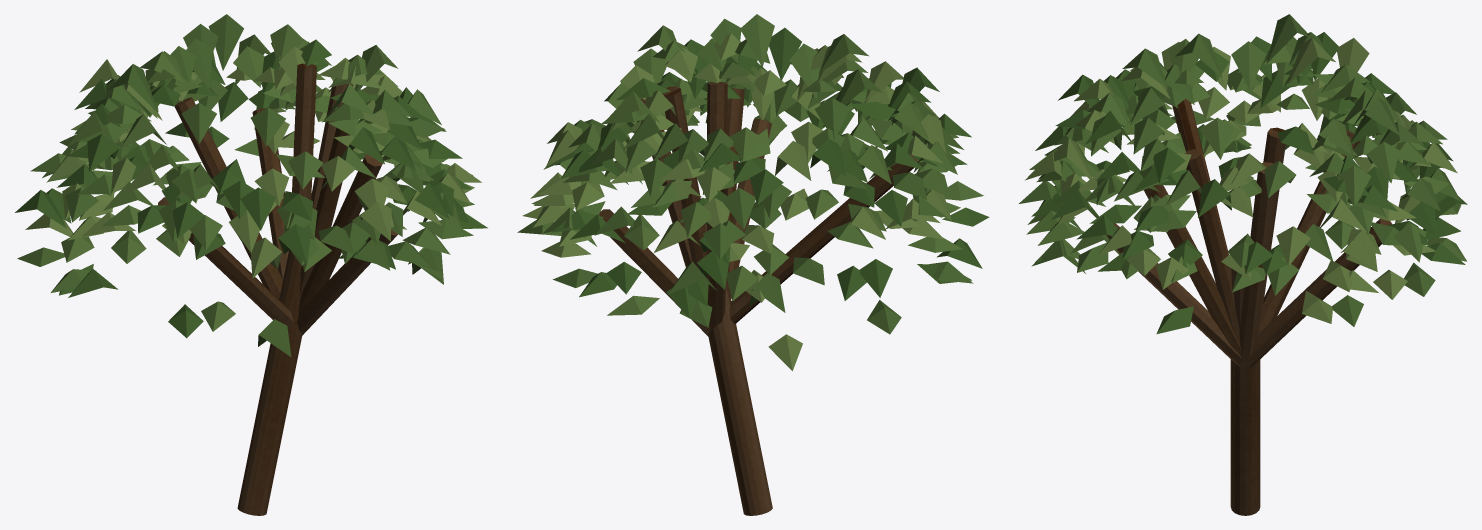
The model's file is prop_bush.glb.
The picture shows the model from 3 angles, left to right: view 1: azimuth 30°, elevation 25°; view 2: azimuth 150°, elevation 25°; view 3: azimuth 270°, elevation 25°; orthographic projection.
Visible parts, largest first — view 1: branch_leaf_clusters, tapered_trunk; view 2: branch_leaf_clusters, tapered_trunk; view 3: branch_leaf_clusters, tapered_trunk.
Boxes of the visible parts, x1=… form: branch_leaf_clusters: x1=15, y1=14, x2=487, y2=356; tapered_trunk: x1=158, y1=63, x2=397, y2=515; branch_leaf_clusters: x1=517, y1=14, x2=989, y2=370; tapered_trunk: x1=599, y1=82, x2=917, y2=515; branch_leaf_clusters: x1=1019, y1=14, x2=1467, y2=334; tapered_trunk: x1=1106, y1=99, x2=1391, y2=515.
Size of the model in its own units: 2.77 by 2.99 by 2.71.
Materials: 2 (1 with a texture image).
